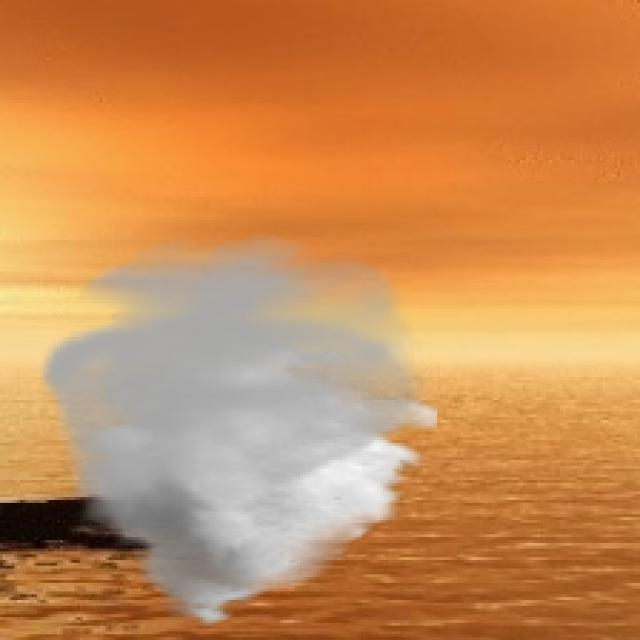Smoke: (34, 234, 437, 629)
